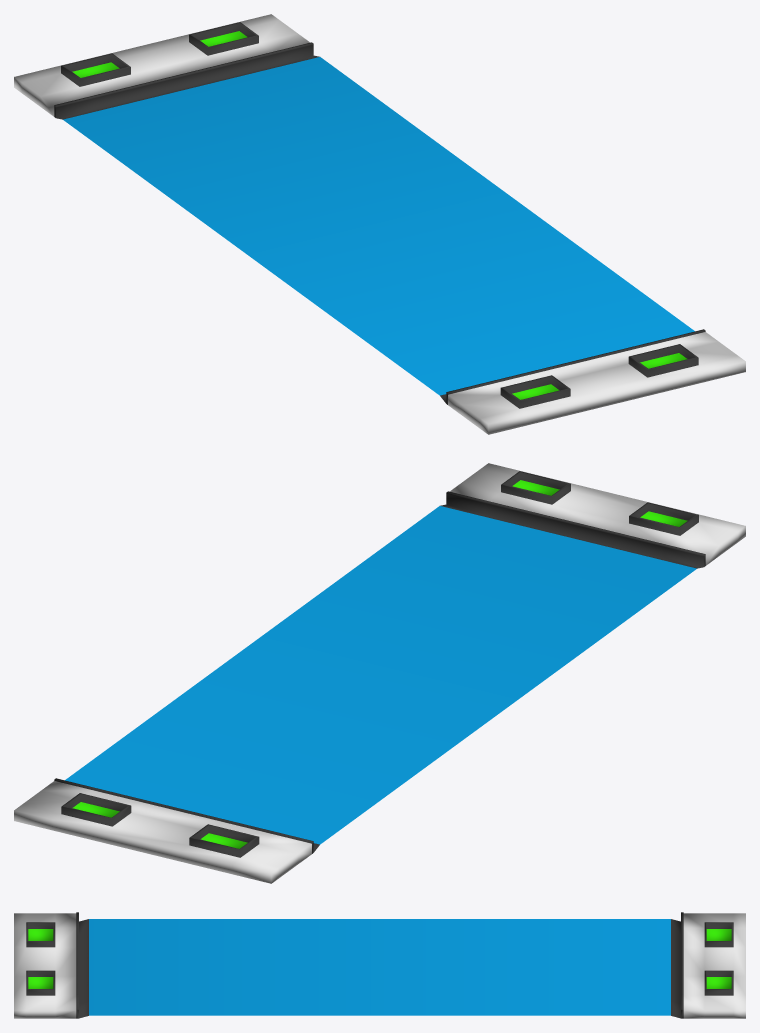
Rendered from Road _1f.fbx.
3 renders of one model, top to bottom at view 1: azimuth 30°, elevation 25°; view 2: azimuth 150°, elevation 25°; view 3: azimuth 270°, elevation 25°, orthographic. The views are drawn at different scales.
Visible parts, largest first — view 1: Cube; view 2: Cube; view 3: Cube.
Part boxes in pixels (x1,y1,x2,y2): Cube: [14, 14, 745, 434]; Cube: [14, 463, 745, 883]; Cube: [14, 912, 745, 1018].
Size of the model in its own units: 1284 by 402 by 26.92.
